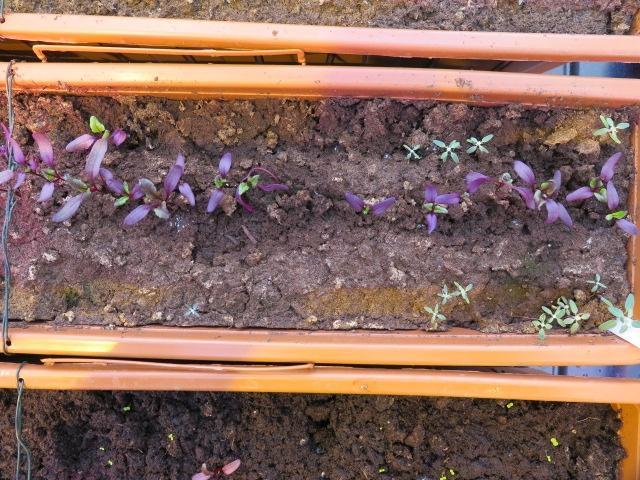crop: (342, 189, 399, 218)
weed: (587, 111, 633, 147), (429, 133, 461, 168), (463, 126, 498, 155), (581, 268, 608, 294), (397, 137, 423, 163), (548, 435, 559, 447), (502, 400, 514, 410), (116, 404, 133, 411), (105, 456, 114, 467), (374, 465, 386, 472), (95, 443, 107, 450), (543, 453, 551, 463), (447, 466, 455, 476)
